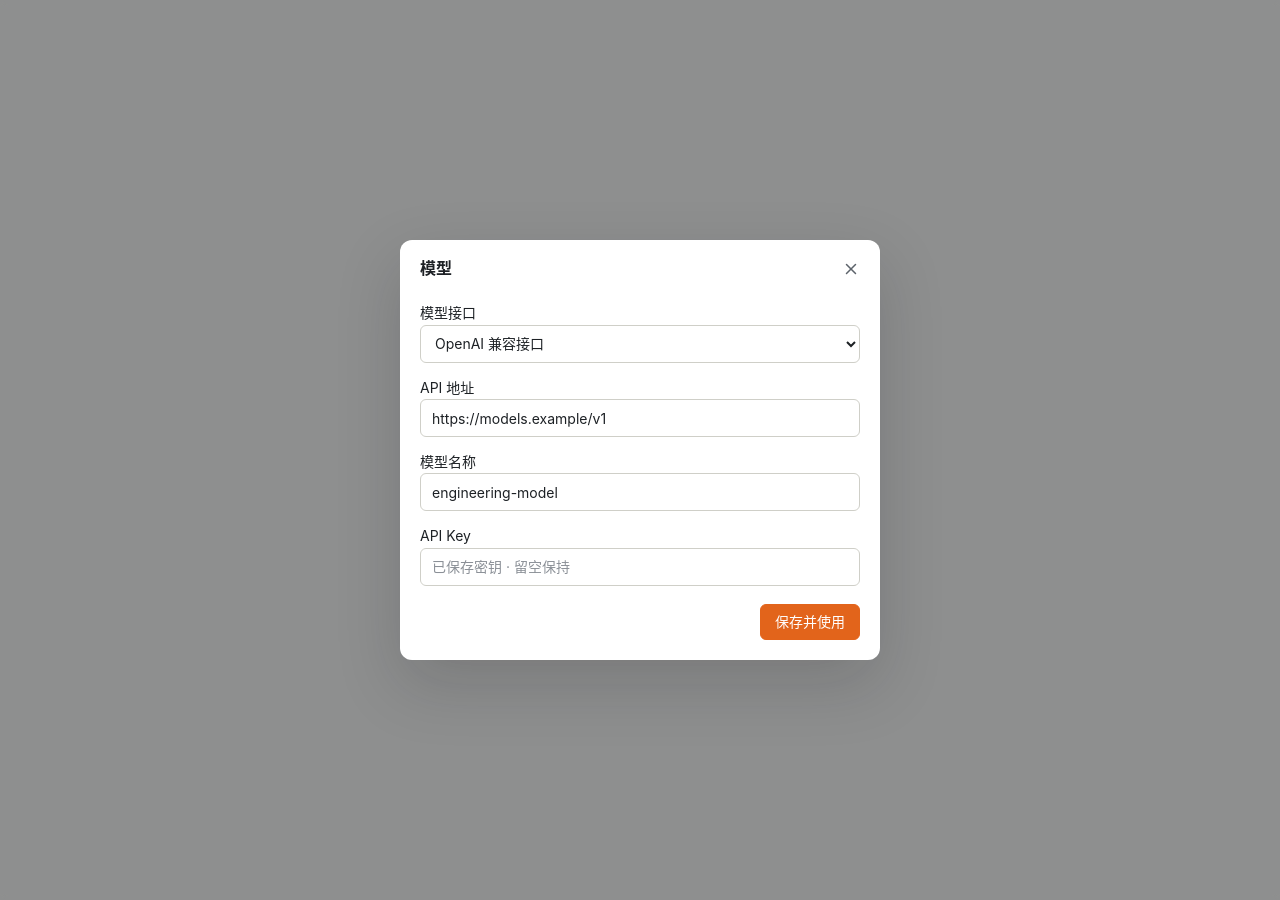
submits only the selected provider and omits a blank key to preserve its saved value
Expected: the dropdown labelled "模型接口" is shown, [420,325,860,363]
Click the button "保存并使用" at point(810, 622), box [760,604,860,640]
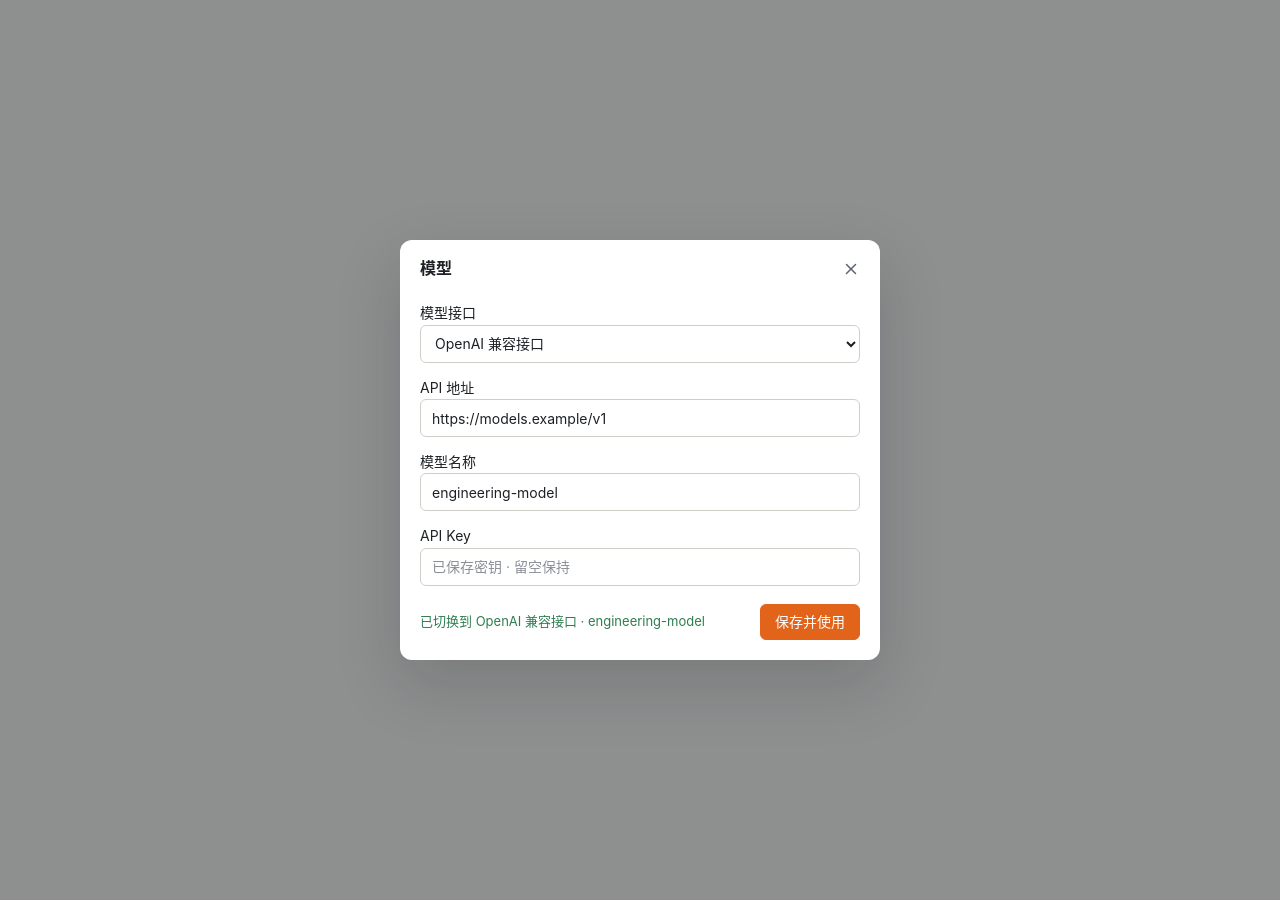
Result: the message named "配置保存结果" shows "已切换到" at [420,613,705,629]
